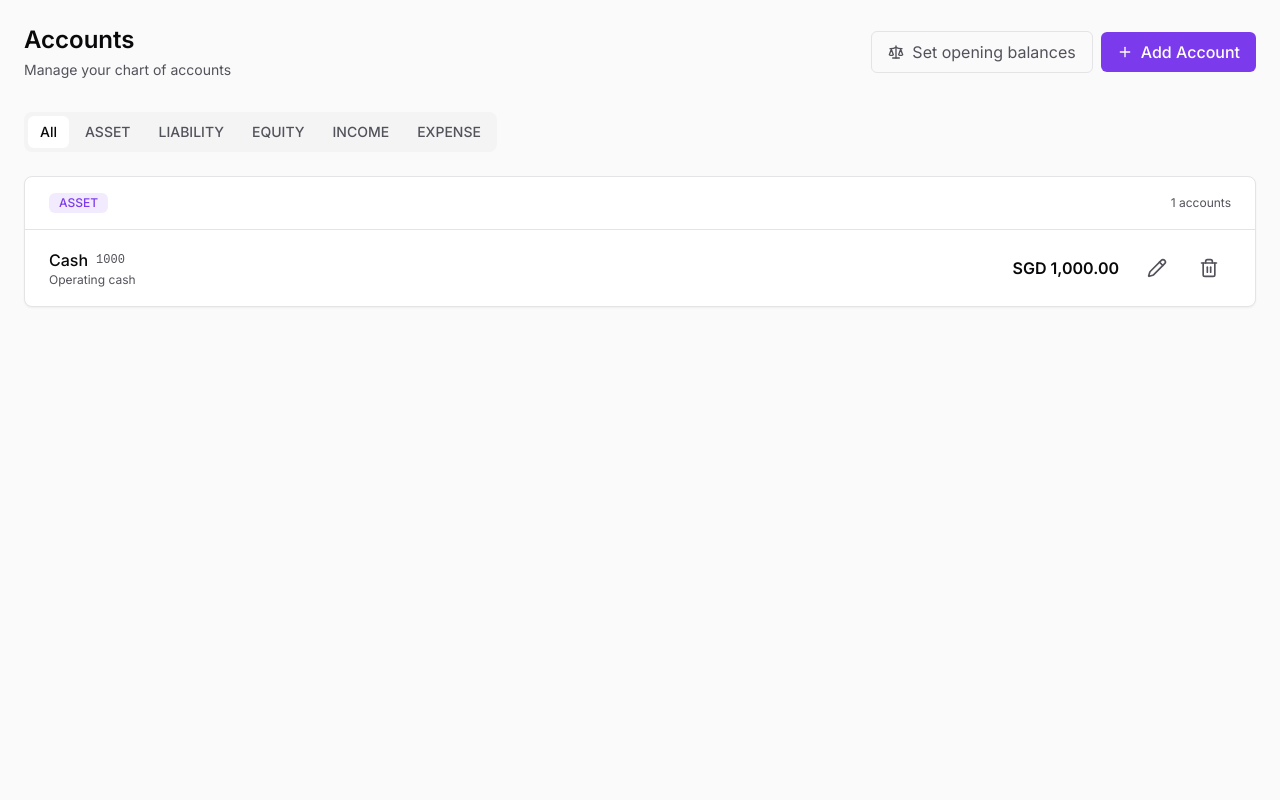
Test case: AccountsPanel › test_AC8_13_48 opens and closes the account details sidebar
Step 1. Click the text "Cash" → coordinates (69, 260), box top-left (49, 248), bottom-right (88, 272)
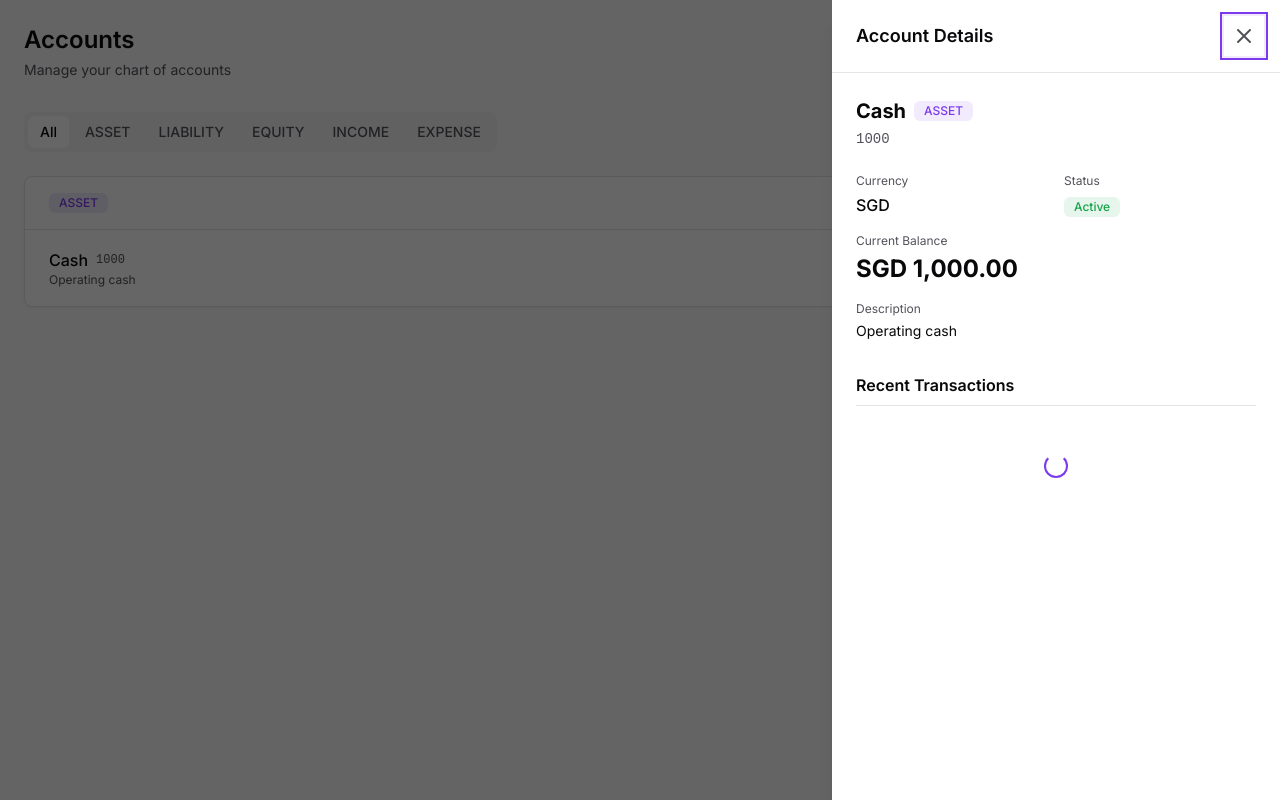
Expected: the 1st text "Operating cash" is shown, top-left (49, 272), bottom-right (136, 287)
Result: the dialog "Account Details" is shown at top-left (832, 0), bottom-right (1279, 799)
Step 2. Click the button named "Close panel" → coordinates (1244, 36), box top-left (1224, 16), bottom-right (1264, 56)
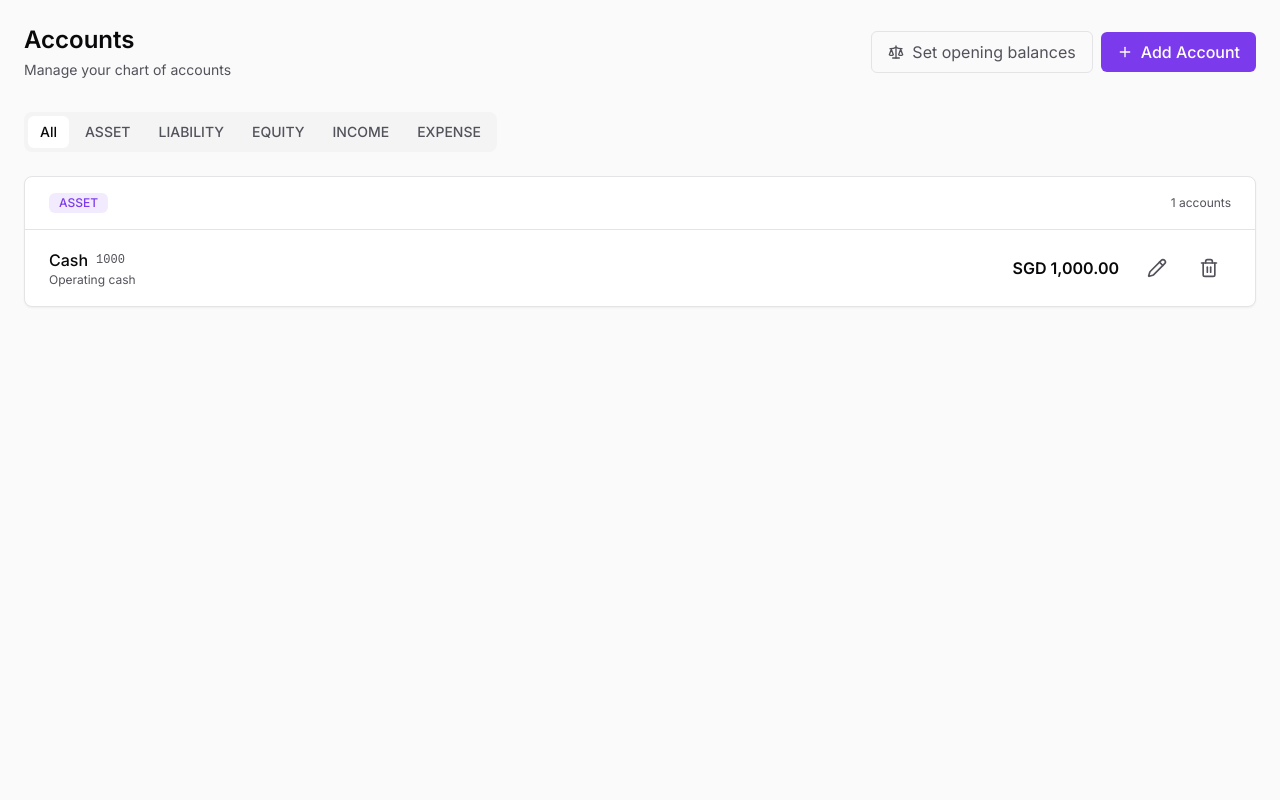
Result: the heading "Account Details" is gone
